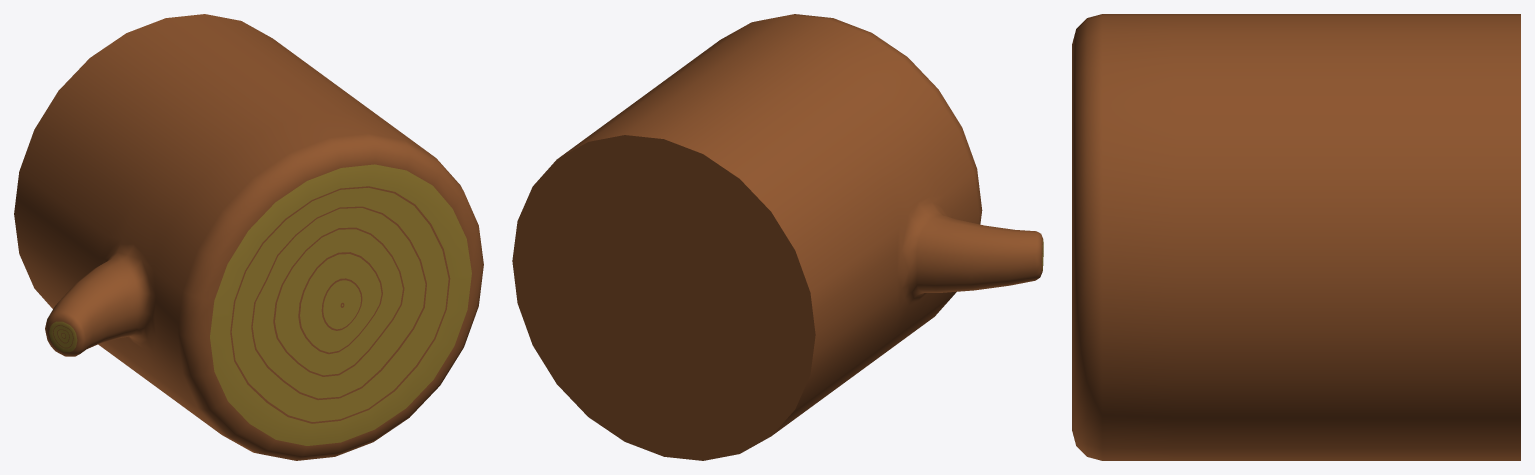
Rendered from trunk_branch.glb.
3 views of the same model, side by side, from view 1: azimuth 30°, elevation 25°; view 2: azimuth 150°, elevation 25°; view 3: azimuth 270°, elevation 25° (orthographic). The views are drawn at different scales.
Parts seen in each view (by area): view 1: trunk_branch; view 2: trunk_branch; view 3: trunk_branch.
Part boxes in pixels (x1,y1,x2,y2): trunk_branch: (14, 14, 483, 460); trunk_branch: (512, 14, 1043, 460); trunk_branch: (1072, 14, 1520, 460).
Bounding box in the file's own units: 3.95 × 3 × 3.
